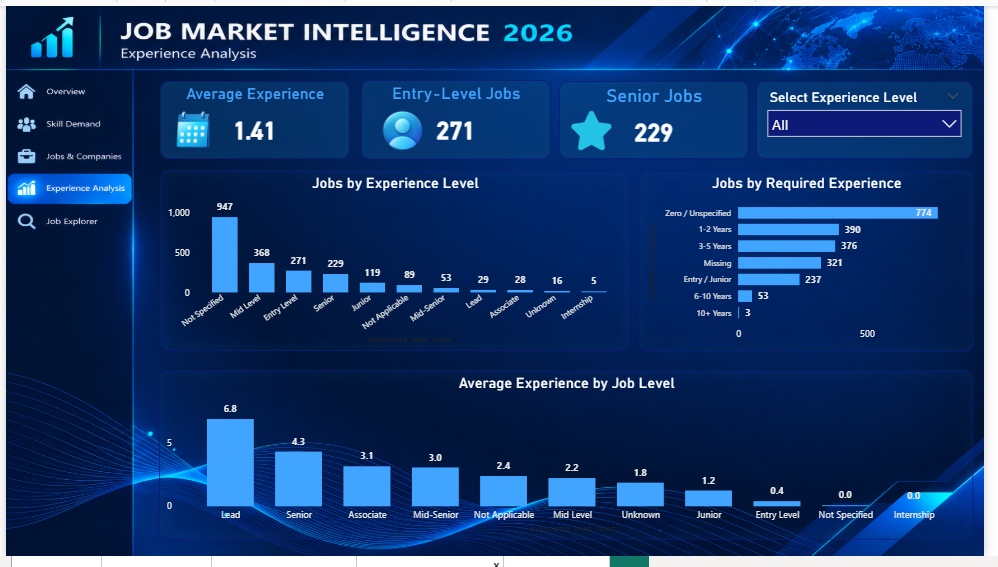

The page's visual inventory and layout, read from the dashboard file:
{"tool":"powerbi","page":{"name":"Experience Analysis","canvas":[1280,720],"ordinal":3},"visuals":[{"type":"card","title":"Average Experience","fields":{"Values":["vacancies_cleaned.Average Experience"]},"box":[201.6,97.9,247.7,102.2],"z":0},{"type":"card","title":"Entry-Level Jobs","fields":{"Values":["vacancies_cleaned.Entry Level Jobs"]},"box":[465.1,96.5,247.7,103.7],"z":1000},{"type":"card","title":"Senior Jobs","fields":{"Values":["vacancies_cleaned.Senior Jobs"]},"box":[724.3,97.9,247.7,102.2],"z":2000},{"type":"clusteredColumnChart","title":"Jobs by Experience Level","fields":{"Category":["vacancies_cleaned.experience_level_clean"],"Y":["vacancies_cleaned.Total Vacancies"]},"box":[201.9,214.8,614.8,237],"z":3000},{"type":"clusteredBarChart","title":"Jobs by Required Experience","fields":{"Category":["vacancies_cleaned.experience_category"],"Y":["vacancies_cleaned.Total Vacancies"]},"box":[828,214.6,437.8,237.6],"z":4000},{"type":"clusteredColumnChart","title":"Average Experience by Job Level","fields":{"Category":["vacancies_cleaned.experience_level_clean"],"Y":["vacancies_cleaned.Average Experience"]},"box":[200.8,476.7,1065.8,222.3],"z":5000},{"type":"slicer","title":"Select Experience Level","fields":{"Values":["vacancies_cleaned.experience_level_clean"]},"box":[982.1,97.9,283.7,102.2],"z":6000},{"type":"actionButton","box":[0,132.5,162.7,40.3],"z":7000},{"type":"actionButton","box":[0,172.8,162.7,40.3],"z":8000},{"type":"actionButton","box":[0,92.2,162.7,40.3],"z":9000},{"type":"actionButton","box":[0,213.1,162.7,40.3],"z":10000},{"type":"actionButton","box":[0,253.4,162.7,40.3],"z":11000},{"type":"image","box":[215.4,133.3,57.4,59.5],"z":12000},{"type":"image","box":[484.1,133.3,69.7,59.5],"z":13000},{"type":"image","box":[734.4,133.3,63.6,59.5],"z":14000}]}

Visuals, with their boxes on the page's 1280x720 design canvas (x1, y1, x2, y2). These are canvas units, not pixel positions in the 998x567 screenshot, which may show the page scaled, cropped or inside an application window:
"Average Experience" card: left=202, top=98, right=449, bottom=200
"Entry-Level Jobs" card: left=465, top=96, right=713, bottom=200
"Senior Jobs" card: left=724, top=98, right=972, bottom=200
"Jobs by Experience Level" clusteredColumnChart: left=202, top=215, right=817, bottom=452
"Jobs by Required Experience" clusteredBarChart: left=828, top=215, right=1266, bottom=452
"Average Experience by Job Level" clusteredColumnChart: left=201, top=477, right=1267, bottom=699
"Select Experience Level" slicer: left=982, top=98, right=1266, bottom=200
actionButton: left=0, top=132, right=163, bottom=173
actionButton: left=0, top=173, right=163, bottom=213
actionButton: left=0, top=92, right=163, bottom=132
actionButton: left=0, top=213, right=163, bottom=253
actionButton: left=0, top=253, right=163, bottom=294
image: left=215, top=133, right=273, bottom=193
image: left=484, top=133, right=554, bottom=193
image: left=734, top=133, right=798, bottom=193
